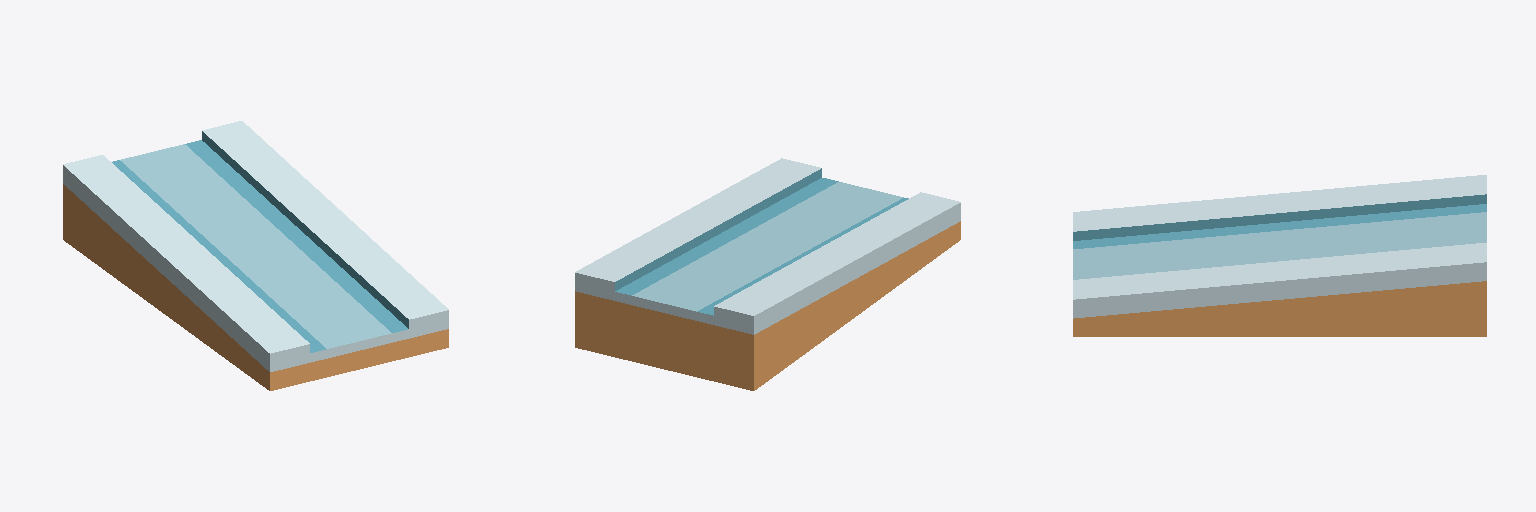
3 renders of one model, left to right at view 1: azimuth 30°, elevation 25°; view 2: azimuth 150°, elevation 25°; view 3: azimuth 270°, elevation 25°, orthographic.
Visible parts, largest first — view 1: snow_tile_straightHillLarge; view 2: snow_tile_straightHillLarge; view 3: snow_tile_straightHillLarge.
Part boxes in pixels (bbox=[...]): snow_tile_straightHillLarge: bbox=[63, 121, 448, 390]; snow_tile_straightHillLarge: bbox=[575, 158, 960, 390]; snow_tile_straightHillLarge: bbox=[1073, 175, 1486, 336].
Size of the model in its own units: 0.5 by 0.2 by 1.